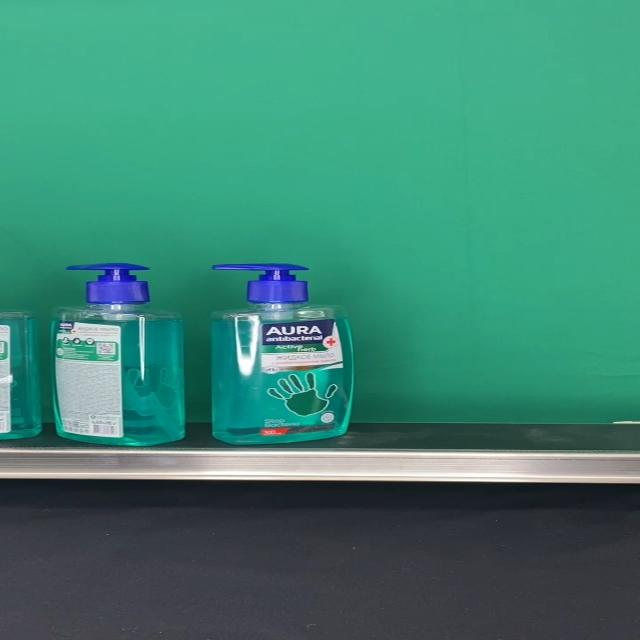Bottle: (211, 262, 353, 444), (51, 264, 185, 446)
Cap: (212, 262, 308, 304), (65, 263, 149, 305)
